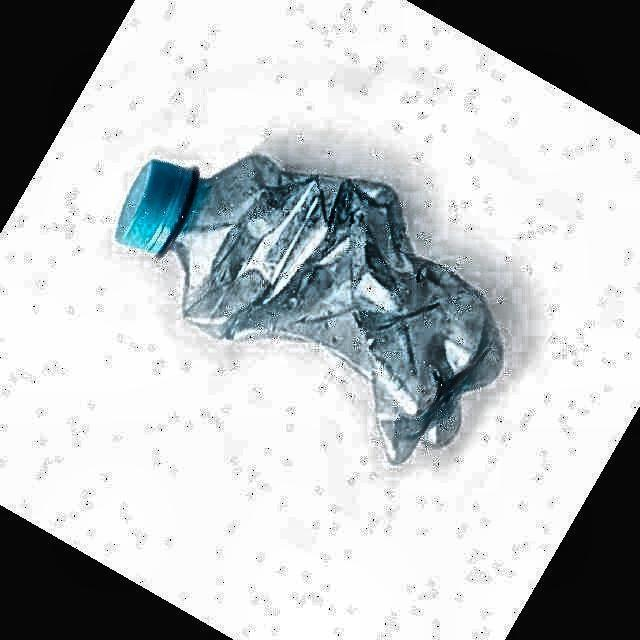plastic: (118, 155, 502, 462)
